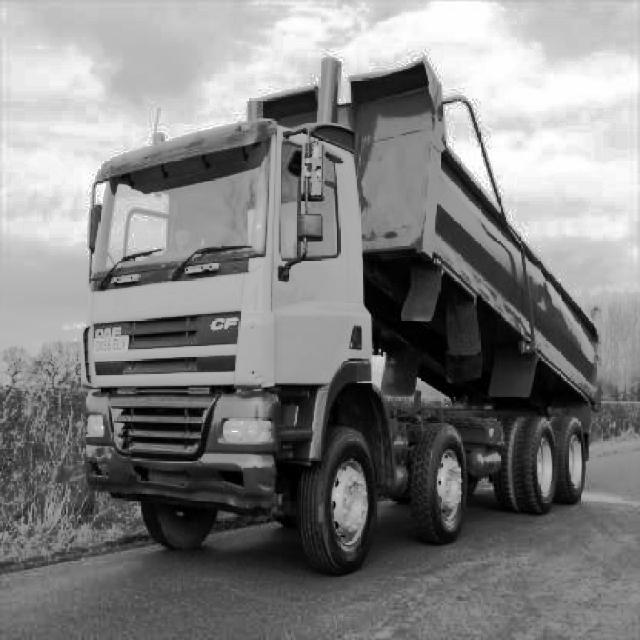HCV: (103, 83, 602, 560)
